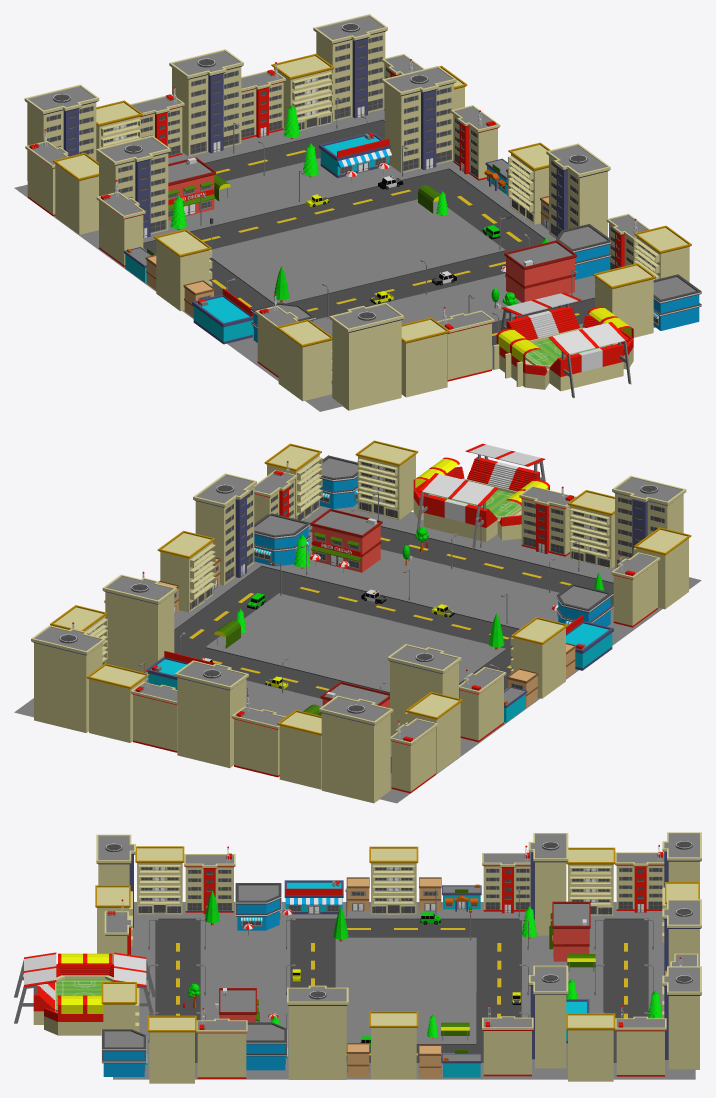
The model's file is City Low Polly Done.fbx.
3 renders of one model, top to bottom at view 1: azimuth 30°, elevation 25°; view 2: azimuth 150°, elevation 25°; view 3: azimuth 270°, elevation 25°, orthographic. The views are drawn at different scales.
Parts seen in each view (by area): view 1: Plane.008, Cube.033, Helly.013, Helly.005, Helly.010, Helly.007, Helly.002, Helly.003, Helly.006, Cube.020, Cube.023, Cube.017 (+24 smaller); view 2: Plane.008, Cube.033, Helly.006, Helly.010, Helly.007, Helly.005, Helly.003, Helly.013, Cube.019, Helly.002, Cube.023, Cube.009 (+23 smaller); view 3: Plane.008, Cube.033, Helly.003, Helly.005, Helly.007, Cube.002, Cube.015, Cube.021, Cube.009, Cube.020, Helly.002, Helly.019 (+27 smaller).
Part boxes in pixels (box(x1,y1,x2,y2)): Plane.008: box(14, 109, 655, 411); Cube.033: box(493, 292, 633, 397); Helly.013: box(329, 302, 404, 410); Helly.005: box(382, 66, 456, 173); Helly.010: box(169, 49, 243, 156); Helly.007: box(313, 14, 387, 121); Helly.002: box(96, 135, 170, 237); Helly.003: box(546, 143, 610, 238); Helly.006: box(24, 84, 99, 180); Cube.020: box(276, 319, 332, 401); Cube.023: box(504, 240, 576, 302); Cube.017: box(401, 317, 449, 397); Plane.008: box(14, 503, 701, 803); Cube.033: box(413, 443, 549, 548); Helly.006: box(319, 695, 393, 803); Helly.010: box(174, 660, 248, 768); Helly.007: box(31, 625, 105, 732); Helly.005: box(102, 574, 176, 677); Helly.003: box(193, 473, 256, 585); Helly.013: box(612, 475, 686, 568); Cube.019: box(355, 440, 418, 519); Helly.002: box(387, 644, 461, 736); Cube.023: box(310, 508, 382, 572); Cube.009: box(157, 530, 215, 612); Plane.008: box(113, 902, 695, 1079); Cube.033: box(14, 952, 156, 1035); Helly.003: box(287, 985, 348, 1079); Helly.005: box(528, 965, 568, 1068); Helly.007: box(662, 966, 701, 1069); Cube.002: box(369, 846, 418, 914); Cube.015: box(566, 1013, 615, 1081); Cube.021: box(147, 1015, 196, 1083); Cube.009: box(369, 1011, 418, 1079); Cube.020: box(135, 846, 184, 914); Helly.002: box(528, 833, 568, 935); Helly.019: box(196, 1008, 247, 1078).
Size of the model in its own units: 7991 by 1615 by 12601.
27 materials, 2 textured.
